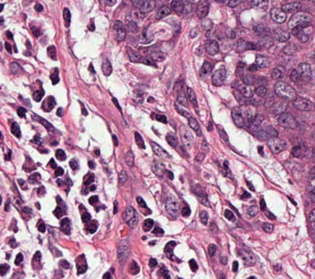nucleus: (274, 81, 296, 100), (32, 114, 54, 131), (192, 185, 209, 206), (267, 136, 286, 153), (234, 81, 252, 98), (278, 112, 297, 128), (117, 240, 129, 264), (164, 241, 179, 260), (180, 126, 192, 149), (238, 249, 255, 265), (151, 142, 169, 157), (293, 96, 312, 110), (296, 63, 311, 80), (188, 117, 201, 135), (256, 35, 273, 48), (212, 68, 225, 85), (232, 107, 243, 127), (76, 254, 87, 274), (166, 198, 178, 216), (127, 47, 141, 62), (186, 87, 197, 106), (122, 206, 135, 222), (205, 39, 218, 54), (42, 96, 55, 111), (152, 161, 165, 176), (233, 90, 246, 104), (250, 114, 263, 128), (253, 127, 268, 139), (60, 217, 70, 234), (271, 66, 284, 79), (275, 29, 289, 41), (272, 102, 286, 114), (134, 132, 144, 148), (255, 55, 268, 67), (200, 61, 212, 74), (176, 105, 189, 117), (235, 38, 246, 52), (282, 44, 296, 55), (177, 91, 187, 106), (296, 30, 308, 42), (102, 59, 111, 75), (246, 105, 255, 121), (32, 251, 40, 269), (242, 73, 255, 84), (166, 133, 177, 146), (86, 220, 97, 233), (128, 261, 139, 274), (150, 51, 164, 61), (140, 57, 155, 66), (112, 97, 121, 112), (255, 85, 266, 97), (33, 89, 44, 101), (53, 206, 65, 217), (142, 219, 153, 231), (127, 214, 137, 227), (50, 68, 58, 84), (47, 45, 56, 59), (118, 170, 127, 184), (199, 210, 208, 224), (265, 126, 277, 136), (125, 151, 133, 166), (28, 173, 40, 183), (224, 161, 231, 177), (55, 149, 65, 160), (136, 196, 146, 207), (247, 205, 257, 216), (224, 209, 234, 220), (264, 209, 275, 219), (158, 268, 169, 278), (290, 69, 299, 81), (134, 90, 143, 102), (218, 128, 227, 140), (84, 173, 93, 185), (56, 196, 65, 207), (262, 223, 273, 232), (37, 220, 45, 232), (292, 146, 301, 156), (88, 195, 98, 204), (181, 206, 190, 216), (81, 212, 90, 222), (174, 81, 182, 92), (155, 114, 166, 122), (152, 227, 163, 235), (208, 244, 216, 255), (189, 259, 197, 270), (195, 152, 204, 161), (69, 159, 77, 169), (59, 260, 69, 268), (237, 62, 244, 73), (226, 30, 235, 38), (81, 103, 87, 115), (32, 135, 40, 144), (48, 159, 56, 168), (55, 167, 63, 176), (37, 186, 44, 196), (210, 222, 217, 232), (309, 209, 314, 222), (190, 28, 197, 37), (246, 181, 253, 190), (241, 191, 250, 198), (149, 258, 156, 267), (260, 198, 265, 210), (249, 64, 258, 70), (56, 107, 62, 116), (112, 135, 117, 145), (232, 261, 237, 271), (88, 160, 94, 168), (66, 177, 72, 185), (113, 201, 117, 213), (221, 256, 227, 264), (89, 64, 94, 73), (56, 179, 63, 185), (167, 171, 172, 179), (258, 146, 262, 155), (103, 273, 110, 278), (310, 167, 313, 177), (89, 185, 95, 190), (95, 149, 99, 155), (249, 276, 255, 278)
